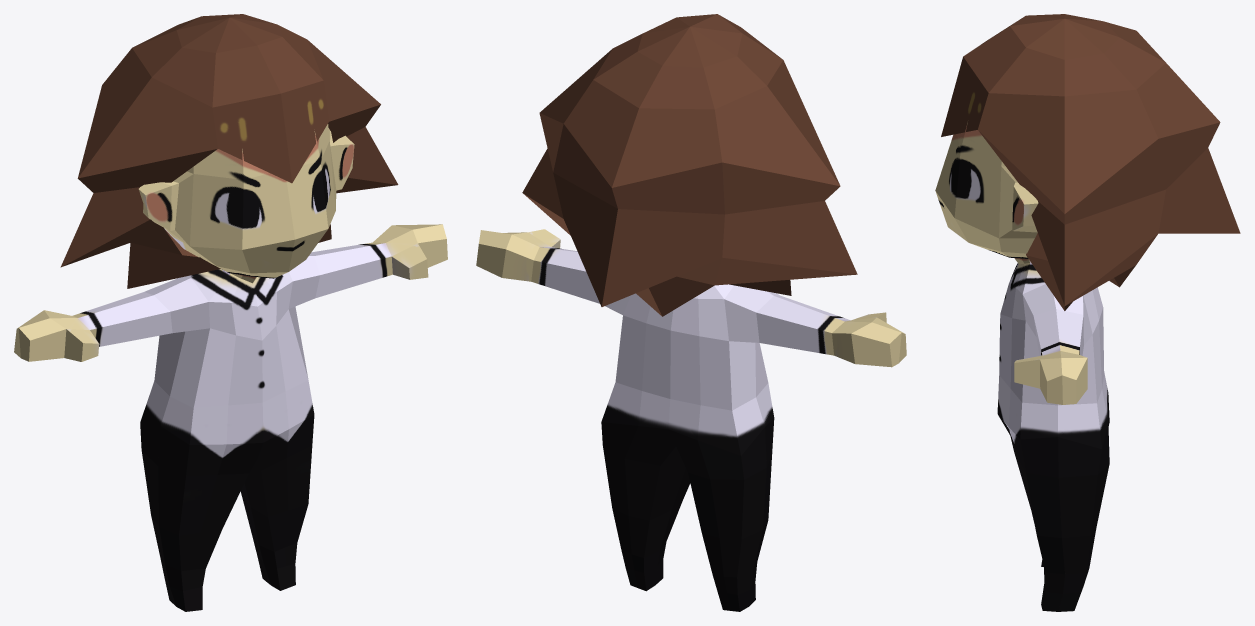
File: camil.fbx
3 renders of one model, left to right at view 1: azimuth 30°, elevation 25°; view 2: azimuth 150°, elevation 25°; view 3: azimuth 270°, elevation 25°, orthographic.
Parts seen in each view (by area): view 1: cuerpo, Sphere; view 2: Sphere, cuerpo; view 3: Sphere, cuerpo.
Boxes of the visible parts, bbox=[...] form: cuerpo: bbox=[14, 124, 447, 611]; Sphere: bbox=[60, 14, 398, 288]; Sphere: bbox=[522, 14, 857, 316]; cuerpo: bbox=[476, 229, 906, 611]; Sphere: bbox=[941, 14, 1240, 310]; cuerpo: bbox=[935, 122, 1109, 611].
Bounding box in the file's own units: 247 × 320 × 156.
